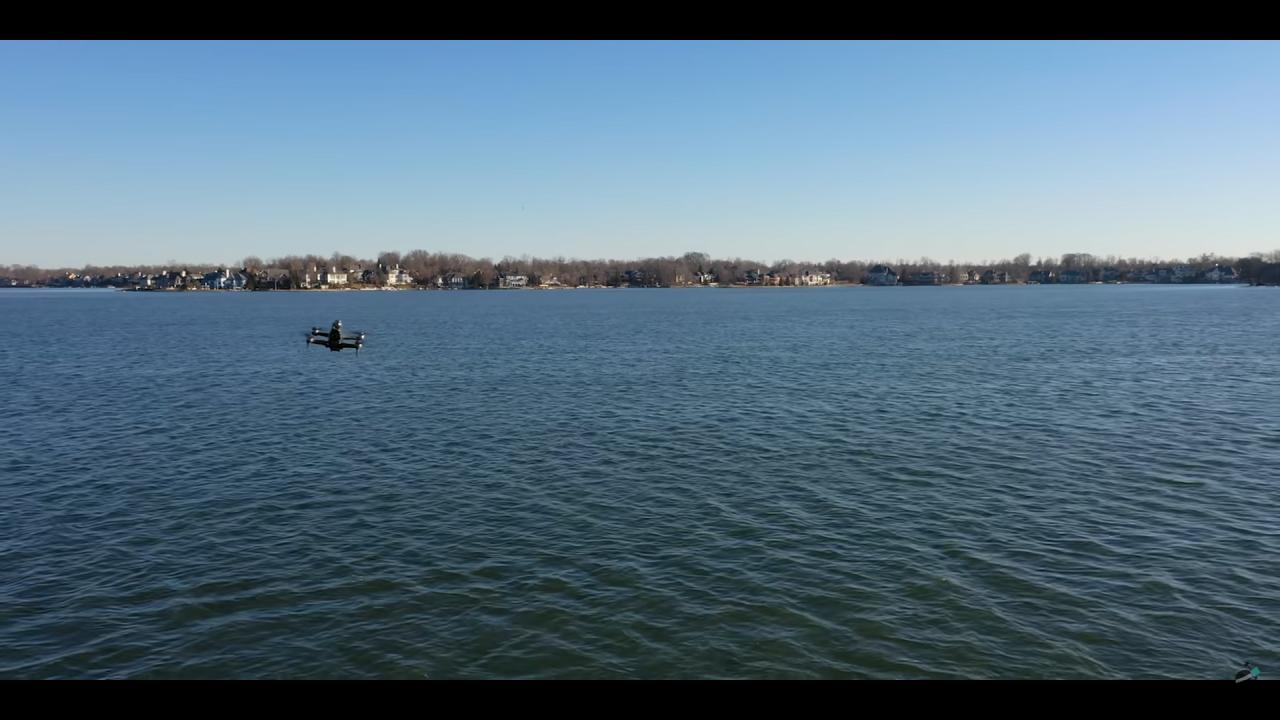Drone: (295, 310, 376, 364)
